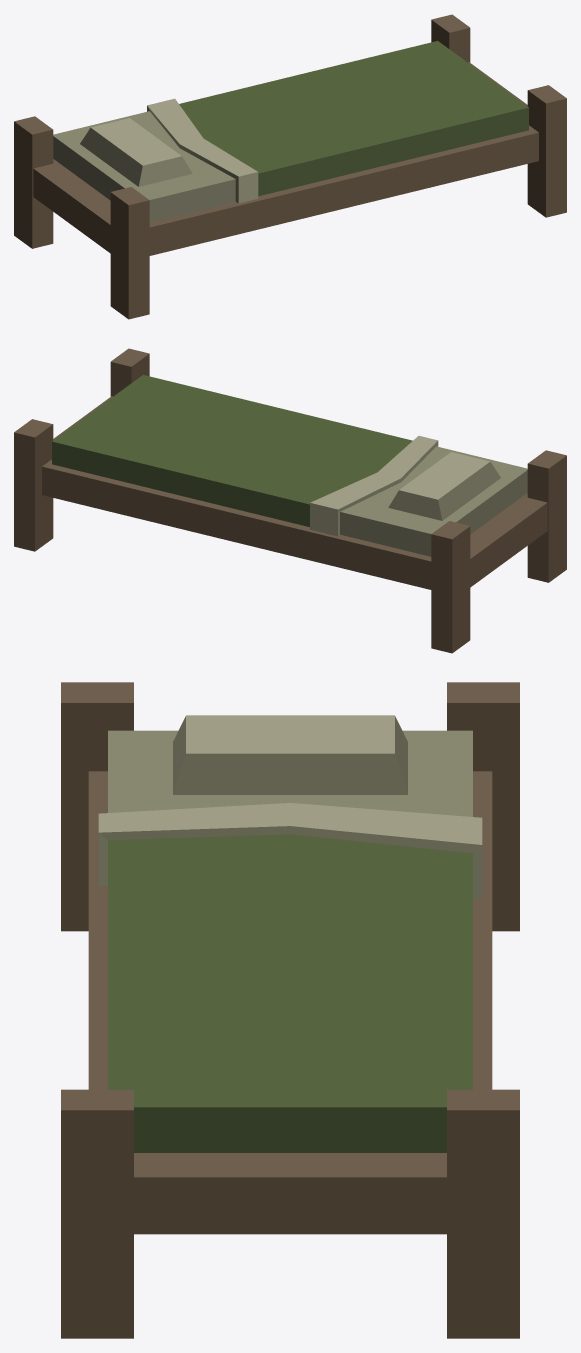
Rendered from SD_Prop_Bed_01.fbx.
3 renders of one model, top to bottom at view 1: azimuth 30°, elevation 25°; view 2: azimuth 150°, elevation 25°; view 3: azimuth 270°, elevation 25°, orthographic. The views are drawn at different scales.
Visible parts, largest first — view 1: SD_Prop_Bed_01; view 2: SD_Prop_Bed_01; view 3: SD_Prop_Bed_01.
Part boxes in pixels (bbox=[...]): SD_Prop_Bed_01: bbox=[14, 14, 566, 319]; SD_Prop_Bed_01: bbox=[14, 348, 566, 653]; SD_Prop_Bed_01: bbox=[61, 682, 519, 1338].
Bounding box in the file's own units: 3.35 × 0.8759 × 1.52.
